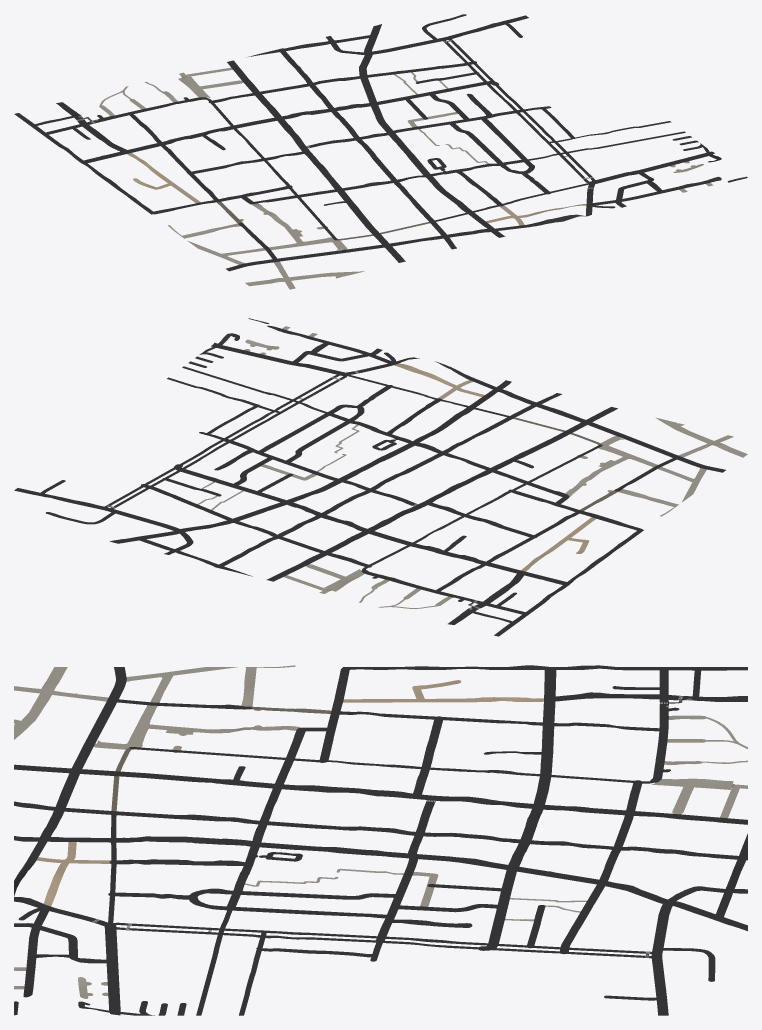
File: roads.glb
The picture shows the model from 3 angles, top to bottom: view 1: azimuth 30°, elevation 25°; view 2: azimuth 150°, elevation 25°; view 3: azimuth 270°, elevation 25°; orthographic projection. The views are drawn at different scales.
Visible parts, largest first — view 1: T_E0_N7_roads; view 2: T_E0_N7_roads; view 3: T_E0_N7_roads.
Part boxes in pixels (bbox=[...]): T_E0_N7_roads: bbox=[14, 14, 747, 289]; T_E0_N7_roads: bbox=[14, 318, 747, 636]; T_E0_N7_roads: bbox=[14, 665, 747, 1015].
Bounding box in the file's own units: 500 × 4.28 × 445.
